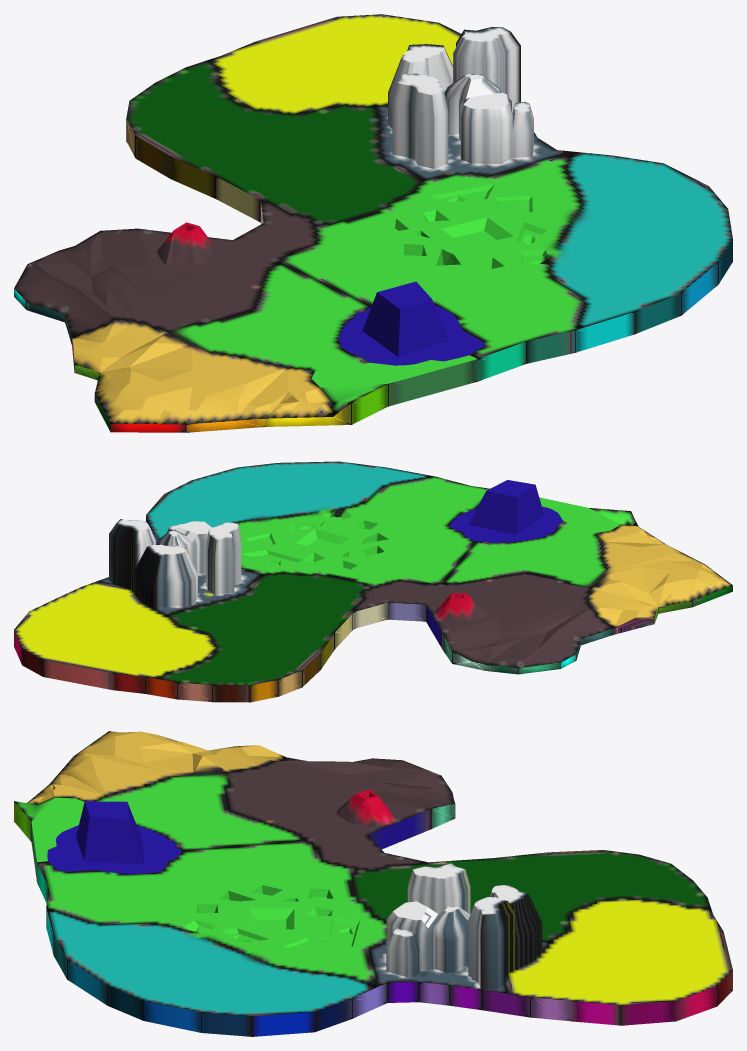
File: mapV3.fbx
The picture shows the model from 3 angles, top to bottom: view 1: azimuth 30°, elevation 25°; view 2: azimuth 150°, elevation 25°; view 3: azimuth 270°, elevation 25°; orthographic projection. The views are drawn at different scales.
Parts seen in each view (by area): view 1: Plane; view 2: Plane; view 3: Plane.
Part boxes in pixels (x1=…): Plane: x1=14, y1=14, x2=732, y2=432; Plane: x1=14, y1=461, x2=732, y2=702; Plane: x1=14, y1=731, x2=732, y2=1036.
Size of the model in its own units: 31302 by 4445 by 31889.
1 material, 1 textured.
